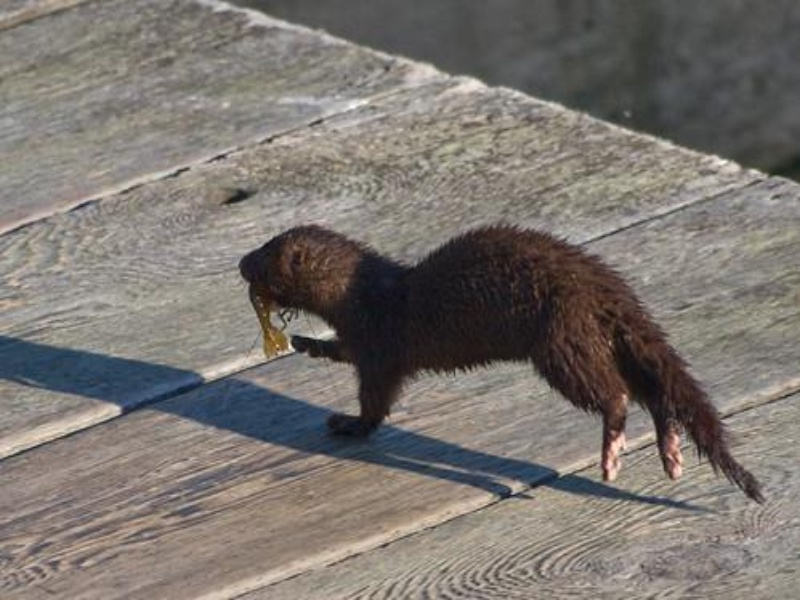minkish: (237, 216, 769, 507)
